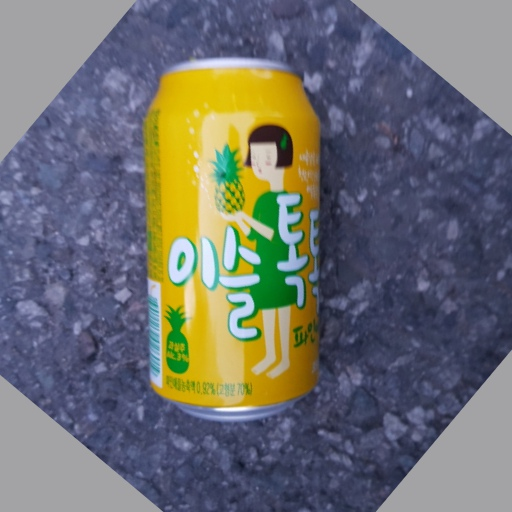Metal_0: (141, 57, 330, 421)
